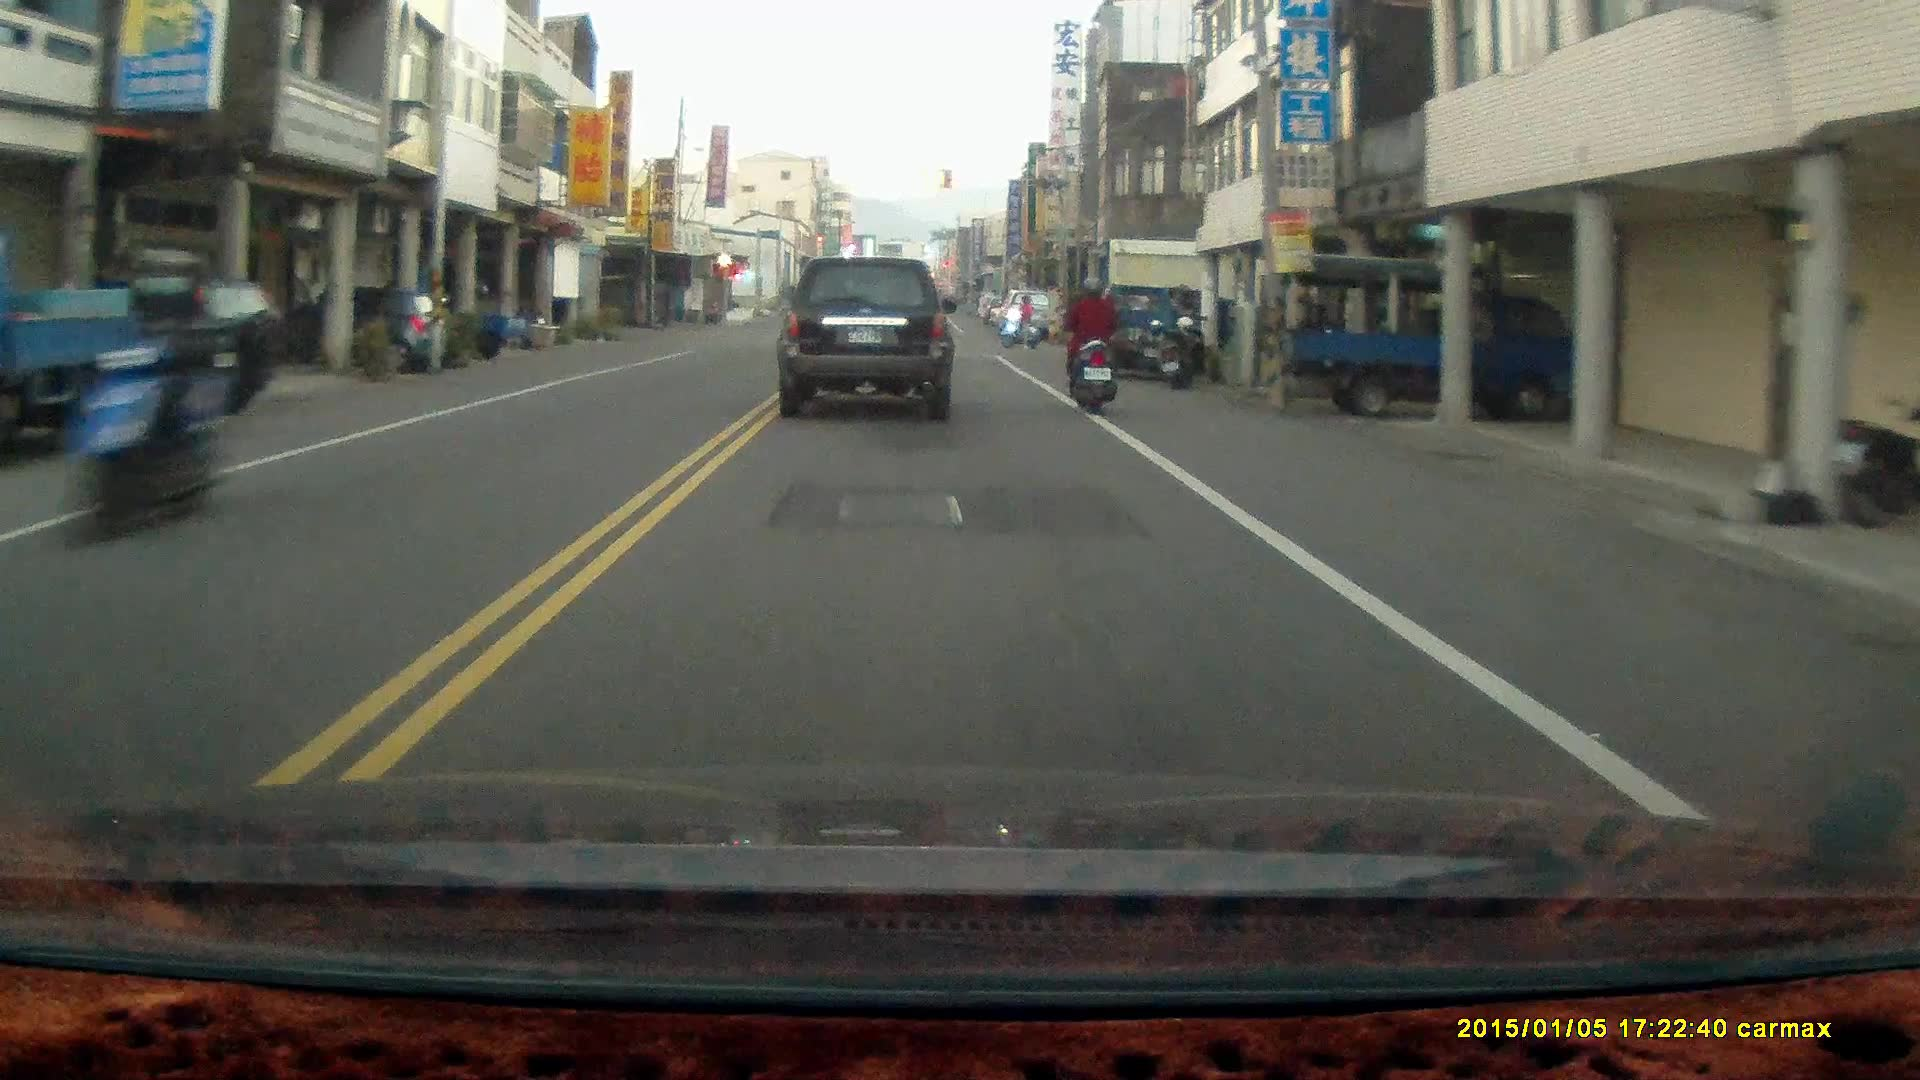rider: (52, 245, 244, 545), (1065, 275, 1119, 417), (997, 293, 1037, 345)
vehicle: (1286, 258, 1601, 424), (776, 256, 956, 426), (278, 280, 449, 373), (1082, 281, 1195, 381)
